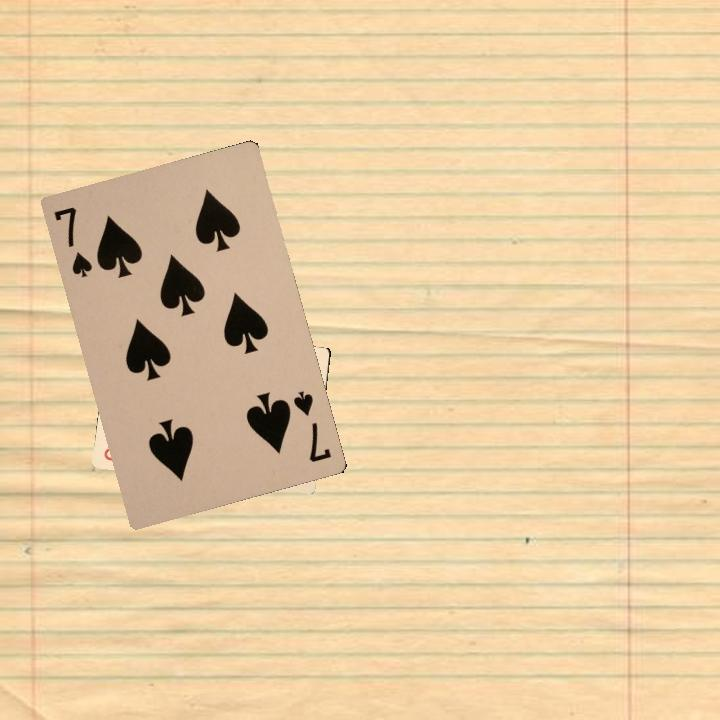7s: (289, 386, 334, 465), (50, 203, 95, 281)
